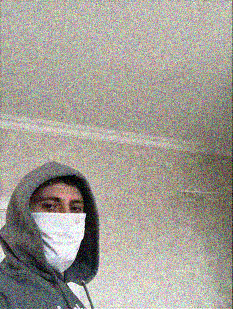with_mask: (29, 191, 86, 274)
